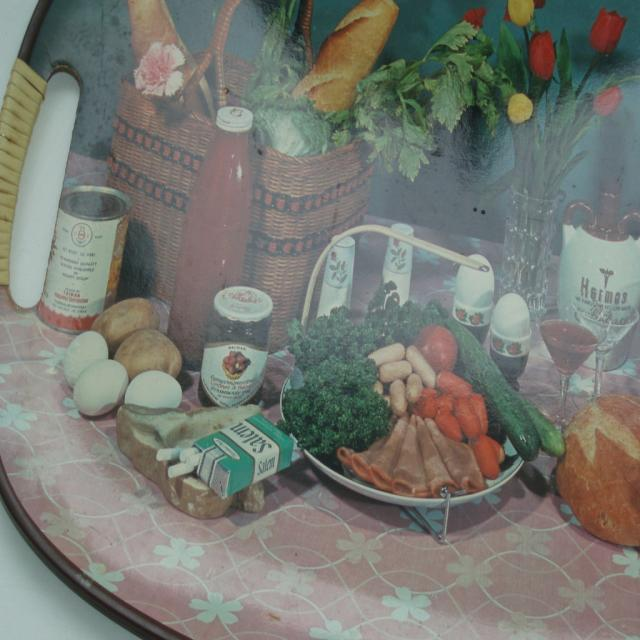non-organic waste: (283, 292, 534, 568)
